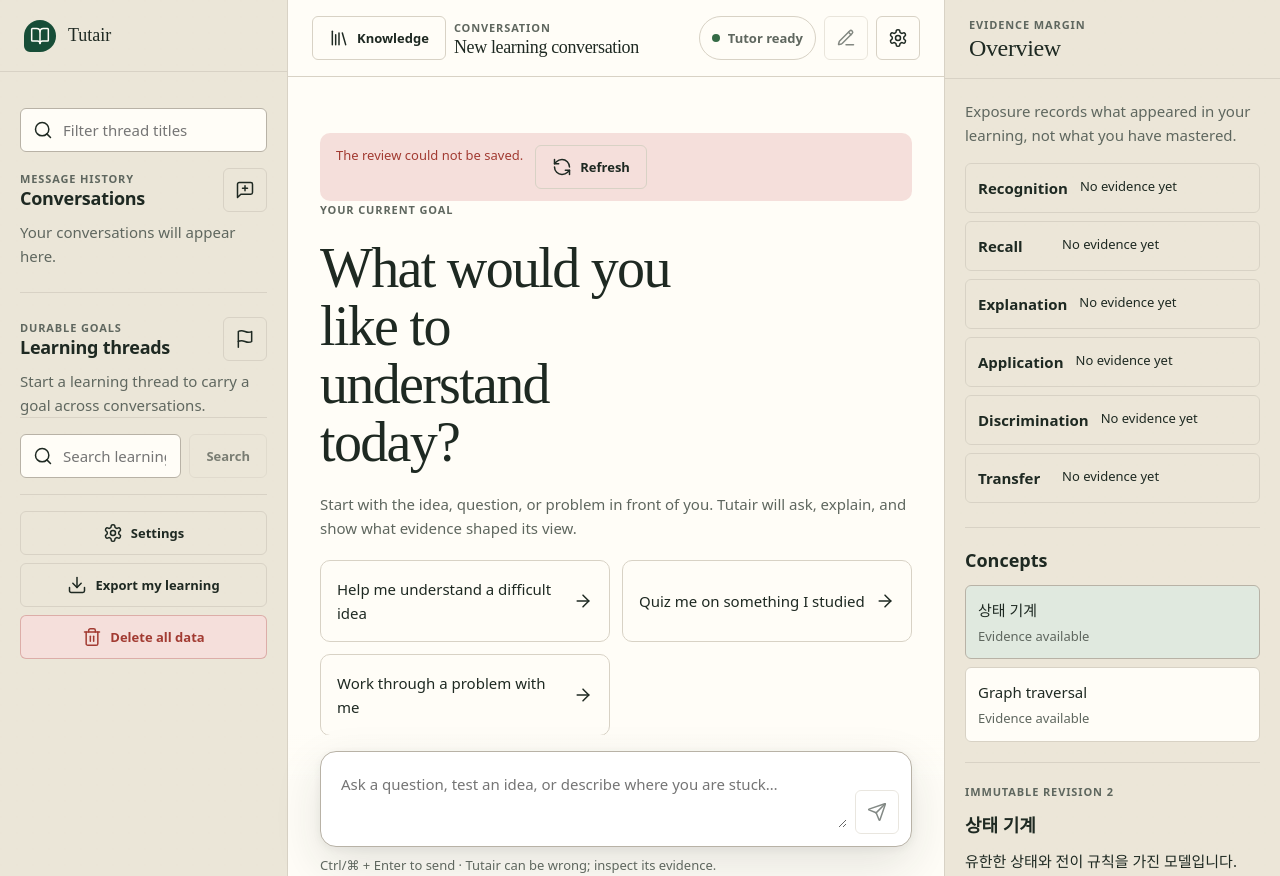
Test: knowledge manager › requires a reason for marking a definition incorrect and preserves the draft on failure
This screenshot has width=1280, height=876.
Click the button with aria-label "Manage knowledge" at (379, 38), box [312, 16, 446, 60]
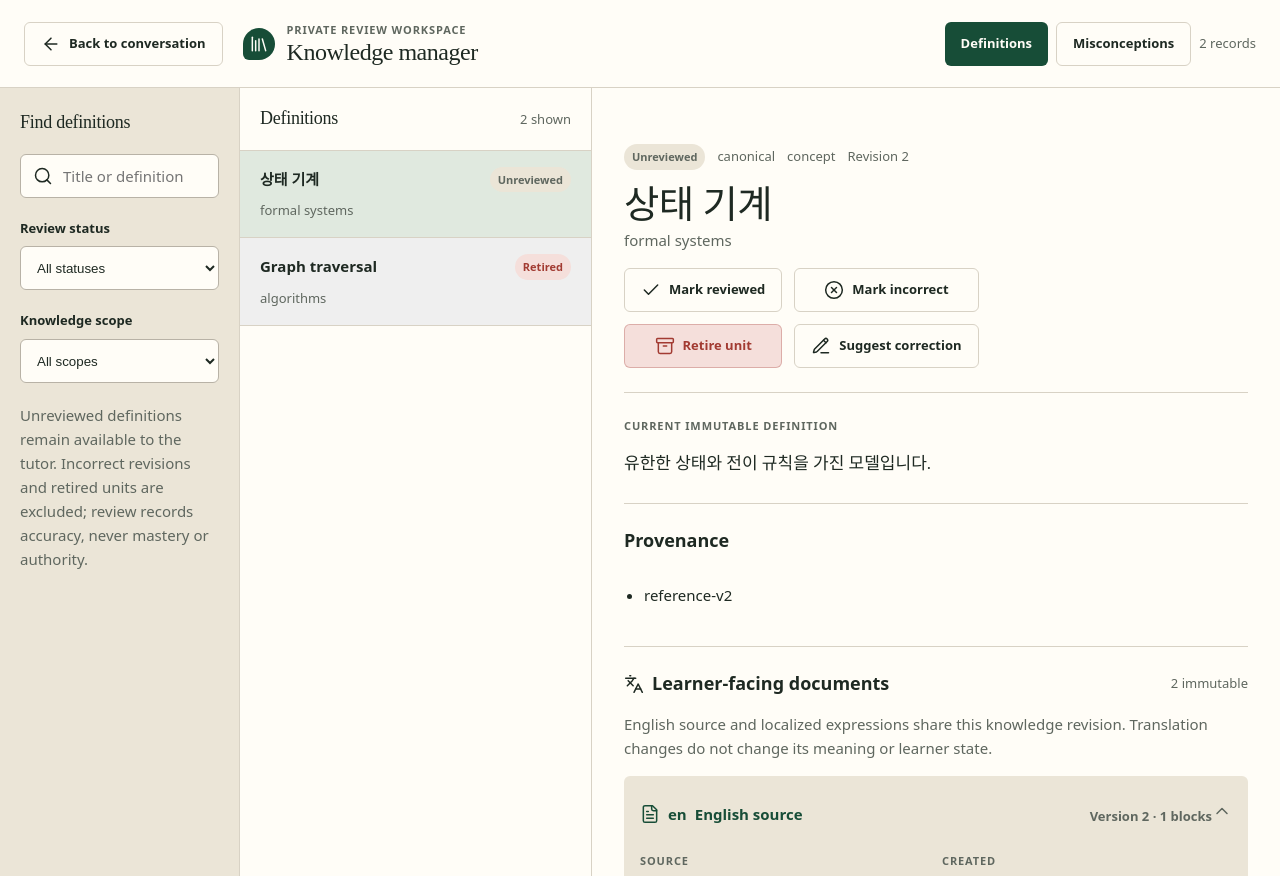
Click the button "Mark incorrect" at (886, 290), box [794, 268, 978, 312]
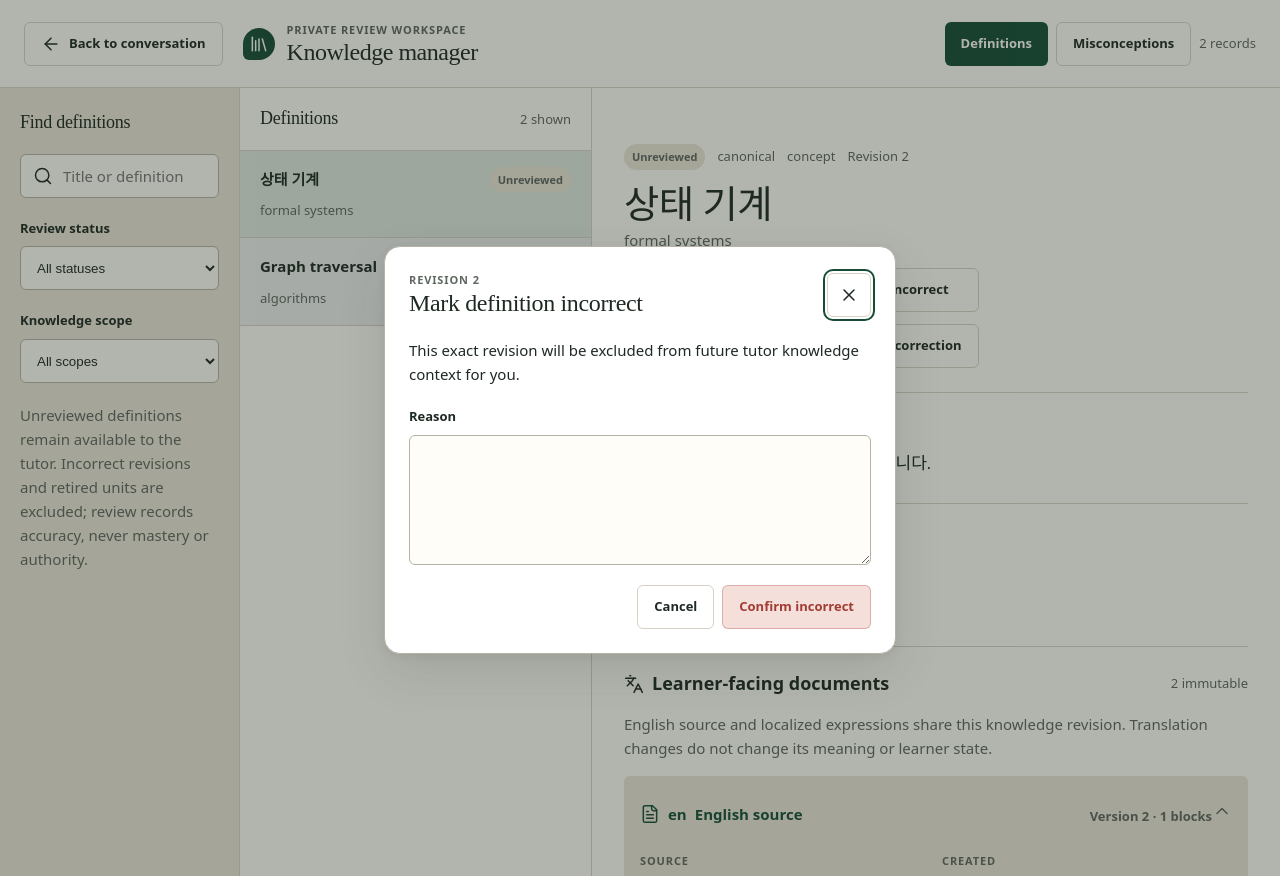
Click the button "Confirm incorrect" at (797, 607), box [722, 585, 871, 629]
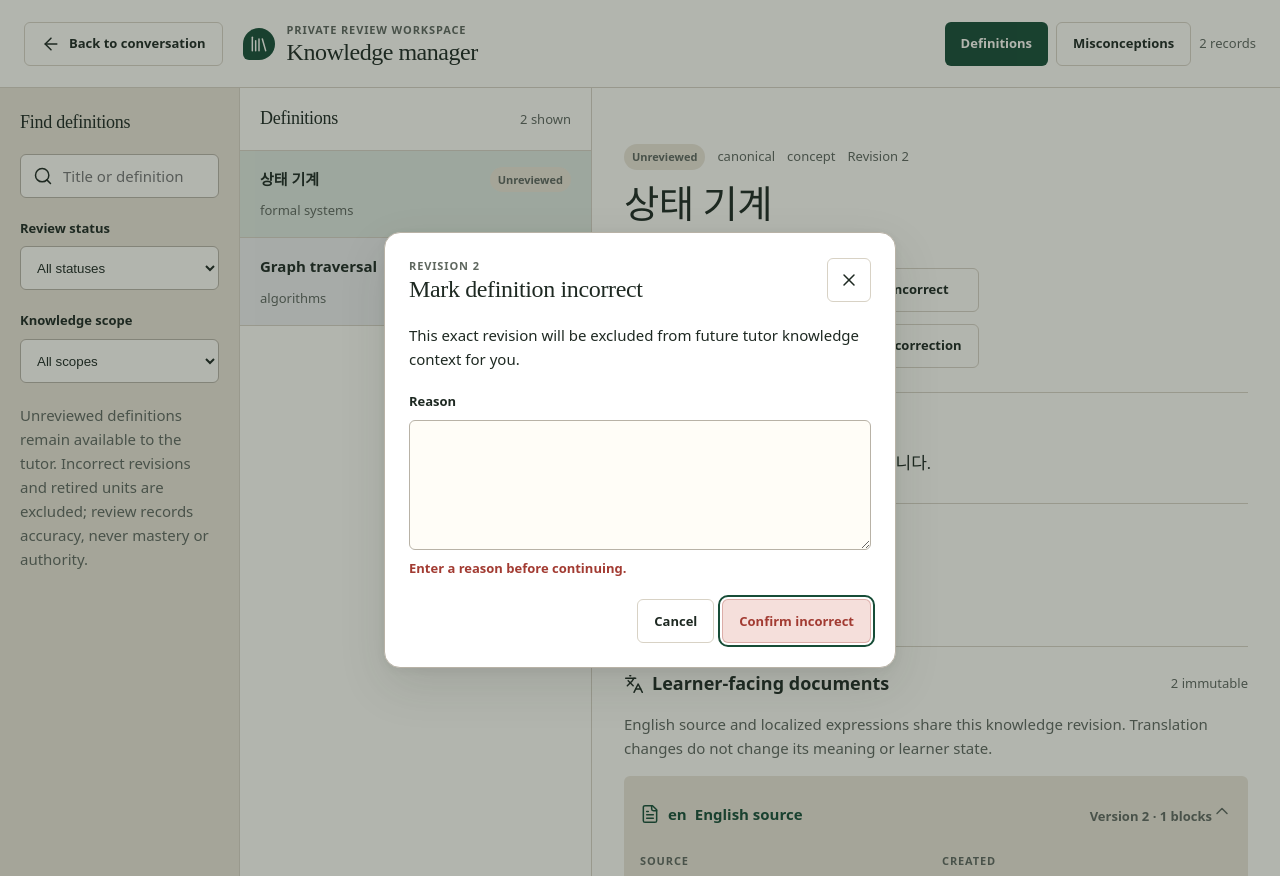
Now the message shows "Enter a reason", box [409, 559, 626, 577]
Type "정의가 중력 조건을 빠뜨렸습니다." into the text box labelled "Reason" at (640, 485), box [409, 420, 871, 550]
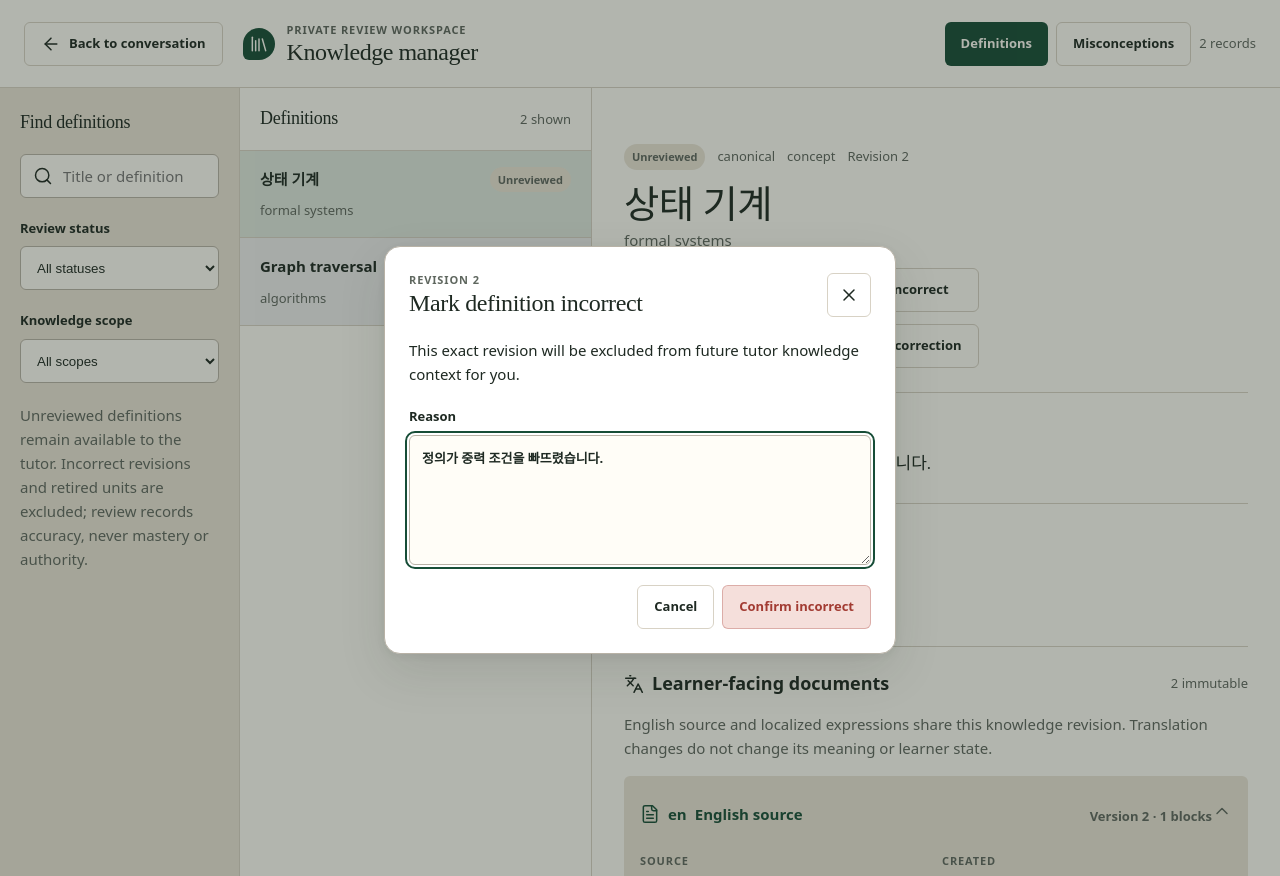
Now the button "Confirm incorrect" is enabled
Click the button "Confirm incorrect" at (797, 607), box [722, 585, 871, 629]
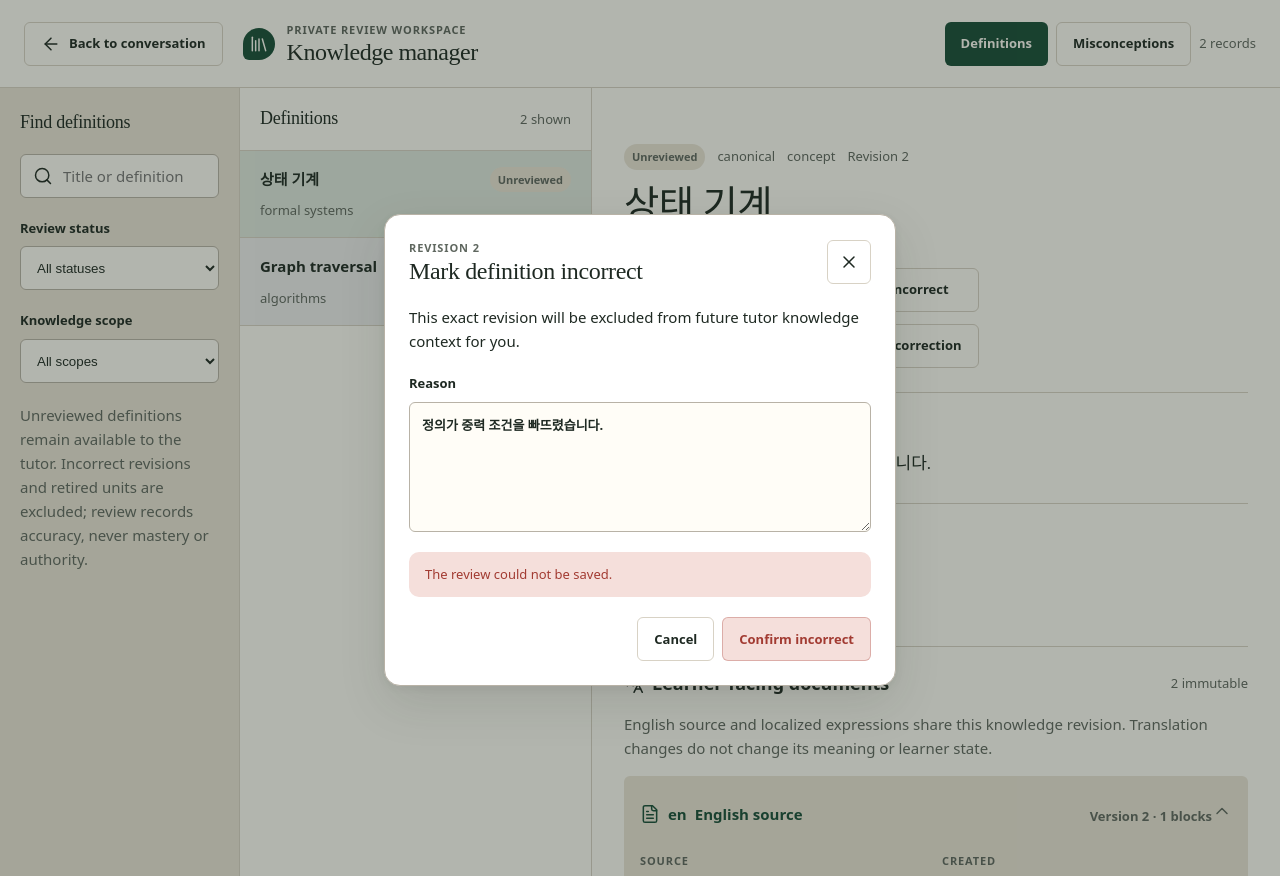
Now the message shows "could not be saved", box [425, 565, 612, 583]
